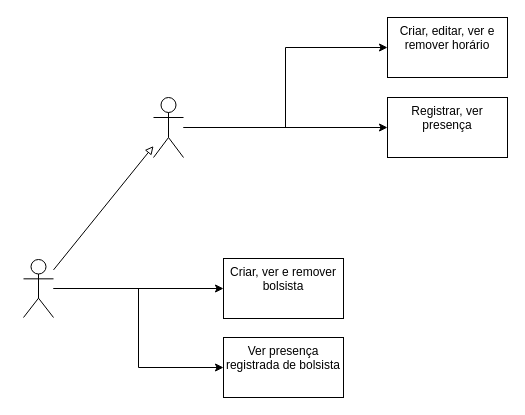
The diagram is 525 pixels wide and 415 high, and some of its shapes have lost their labels. Here are the shapes that lost their labels. From the top down, the box of each, then its label:
(152, 96, 184, 158): Bolsista
(22, 258, 54, 318): Técnico
